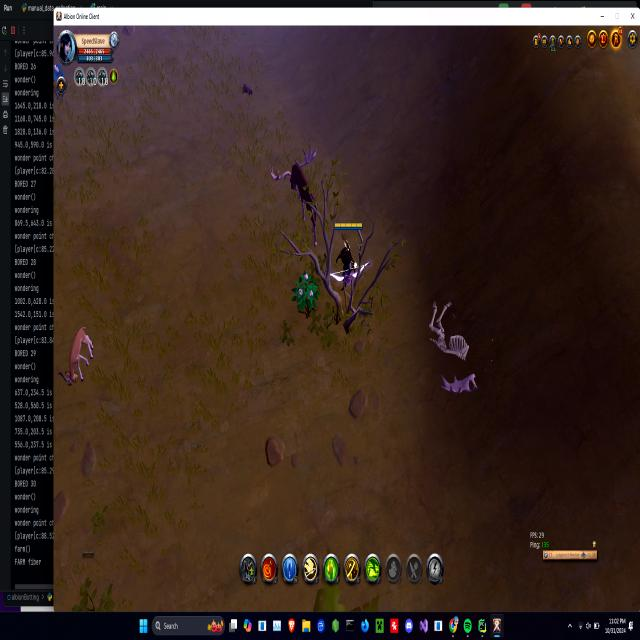hide: (293, 268, 319, 316)
ore: (283, 150, 324, 248), (62, 322, 97, 391)
red: (331, 218, 366, 284)
